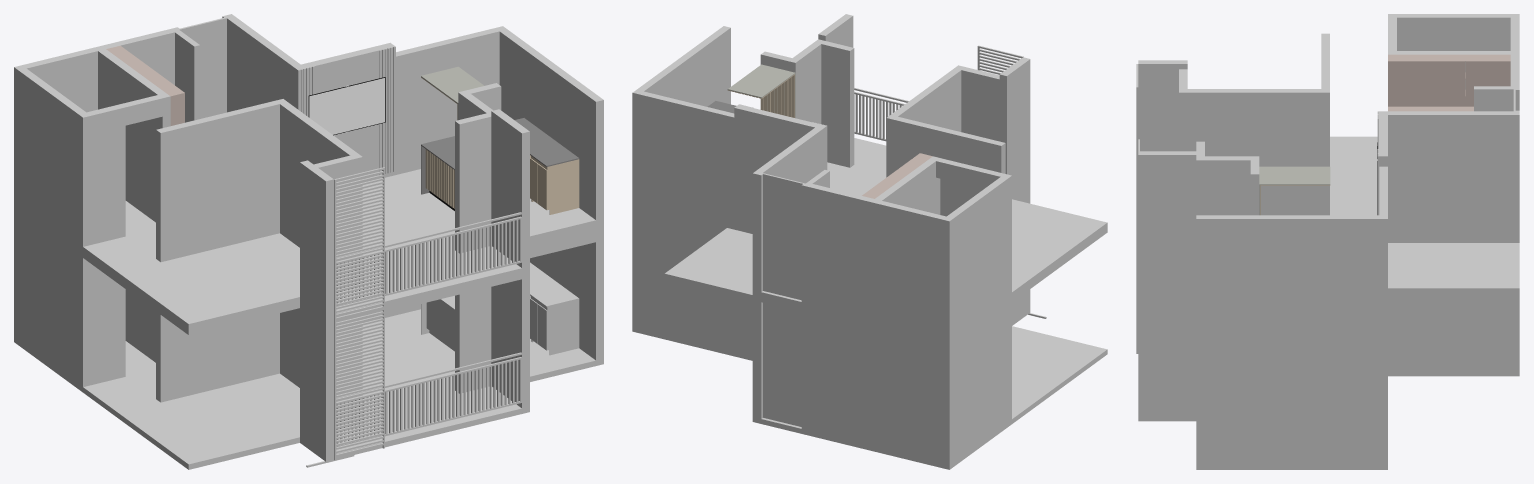
The model's file is seb_project.glb.
3 renders of one model, left to right at view 1: azimuth 30°, elevation 25°; view 2: azimuth 150°, elevation 25°; view 3: azimuth 270°, elevation 25°, orthographic. The views are drawn at different scales.
Visible parts, largest first — view 1: Group213, Group211, Group108, Group214, Group210, Group107, Group105, Group209, Group212, Group103, Group106, Group653 (+12 smaller); view 2: Group211, Group105, Group210, Group213, Group103, Group214, Group108, Group209, Group102, Group543, Group596, Group104 (+3 smaller); view 3: Group210, Group103, Group213, Group212, Group106, Group211, Group102, Group214, Group209, Group104, Group108, Group506 (+12 smaller).
Part boxes in pixels (x1=…): Group213: x1=156, y1=99, x2=362, y2=321; Group211: x1=14, y1=27, x2=199, y2=246; Group108: x1=14, y1=309, x2=603, y2=469; Group214: x1=14, y1=169, x2=603, y2=329; Group210: x1=224, y1=14, x2=603, y2=220; Group107: x1=156, y1=303, x2=362, y2=461; Group105: x1=14, y1=207, x2=155, y2=386; Group209: x1=455, y1=83, x2=501, y2=253; Group212: x1=491, y1=109, x2=529, y2=273; Group103: x1=362, y1=240, x2=603, y2=360; Group106: x1=491, y1=272, x2=529, y2=413; Group653: x1=297, y1=46, x2=394, y2=178; Group211: x1=803, y1=156, x2=1011, y2=337; Group105: x1=803, y1=303, x2=1011, y2=464; Group210: x1=632, y1=26, x2=826, y2=291; Group213: x1=886, y1=57, x2=1030, y2=216; Group103: x1=632, y1=219, x2=759, y2=418; Group214: x1=632, y1=138, x2=1107, y2=342; Group108: x1=632, y1=326, x2=1107, y2=469; Group209: x1=760, y1=39, x2=854, y2=167; Group102: x1=664, y1=228, x2=1107, y2=347; Group543: x1=763, y1=173, x2=803, y2=300; Group596: x1=763, y1=302, x2=801, y2=426; Group104: x1=632, y1=205, x2=726, y2=238; Group210: x1=1196, y1=111, x2=1519, y2=331; Group103: x1=1196, y1=293, x2=1519, y2=464; Group213: x1=1138, y1=33, x2=1329, y2=215; Group212: x1=1138, y1=151, x2=1196, y2=288; Group106: x1=1138, y1=288, x2=1196, y2=421; Group211: x1=1388, y1=14, x2=1519, y2=111; Group102: x1=1388, y1=243, x2=1519, y2=293; Group214: x1=1196, y1=136, x2=1519, y2=336; Group209: x1=1196, y1=141, x2=1259, y2=215; Group104: x1=1196, y1=336, x2=1387, y2=352; Group108: x1=1196, y1=371, x2=1519, y2=469; Group506: x1=1259, y1=166, x2=1330, y2=184.
Bounding box in the file's own units: 7.92 × 5.09 × 6.59.
